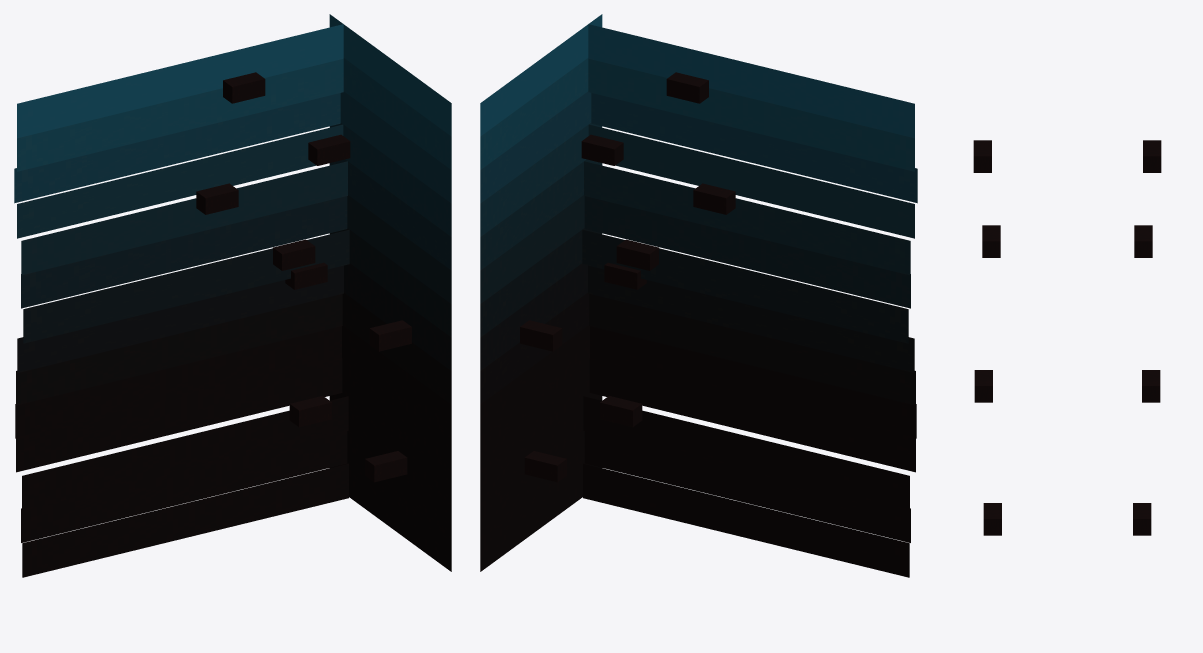
Rendered from Luna0CinemaPoco3D.glb.
The picture shows the model from 3 angles, left to right: view 1: azimuth 30°, elevation 25°; view 2: azimuth 150°, elevation 25°; view 3: azimuth 270°, elevation 25°; orthographic projection.
Visible parts, largest first — view 1: Setor_0; view 2: Setor_0; view 3: Setor_0.
Boxes of the visible parts, x1,y1,x2,y2 form: Setor_0: [14, 14, 451, 577]; Setor_0: [480, 14, 917, 577]; Setor_0: [973, 140, 1161, 535].
Size of the model in its own units: 15.3 by 21.05 by 9.9.
1 material, 1 textured.
